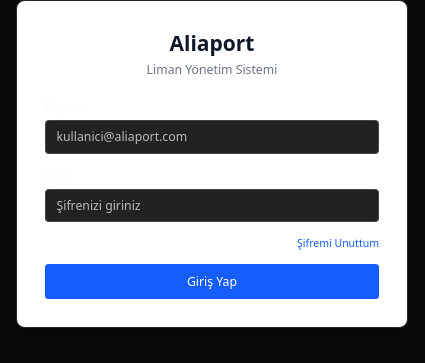
LoginForm › Form Validation › should show validation error for empty password
Note: Enter valid email but no password
Type "test@aliaport.com" into the field labelled "E-posta" at (212, 137), box [45,120,379,154]
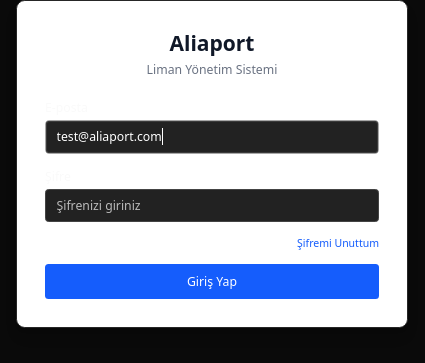
Click the button "Giriş Yap" at (212, 282), box [45,264,379,299]
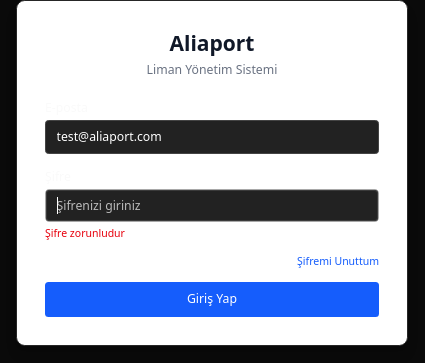
Now the text "Şifre zorunludur" is shown, box [45,226,125,240]
